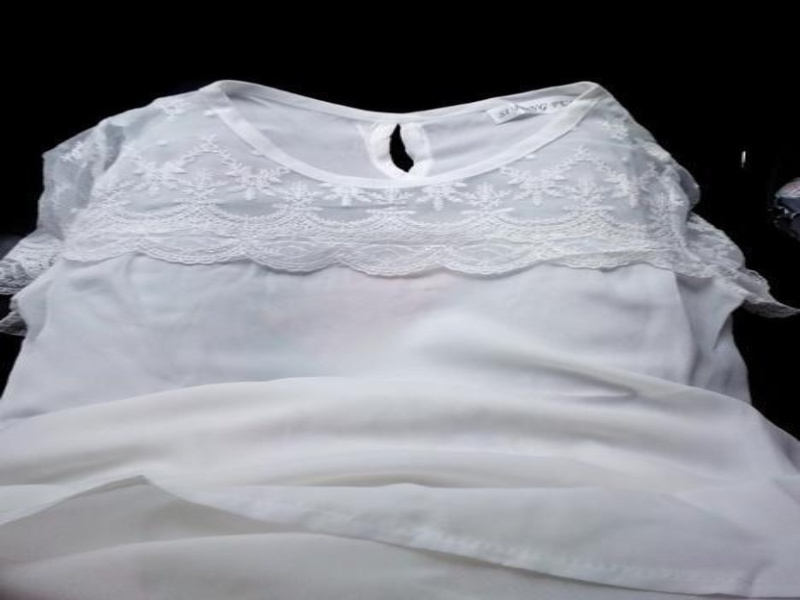short_sleeved_shirt: (0, 76, 797, 599)
